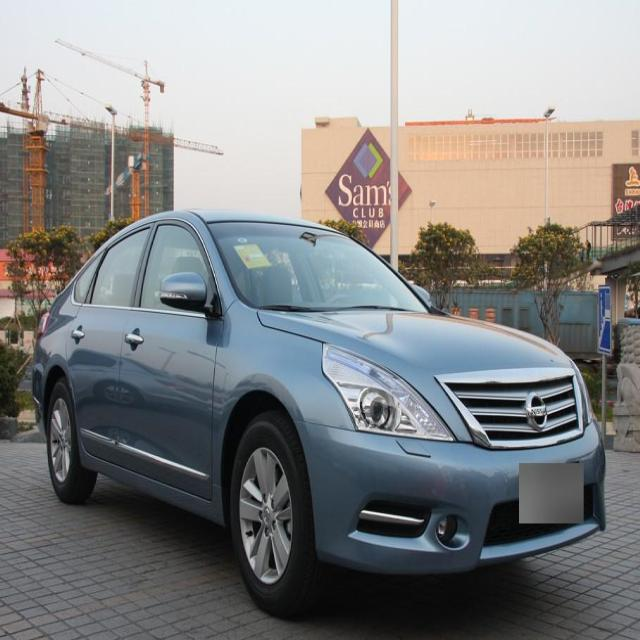back_right_side_light: (31, 300, 63, 352)
door: (74, 224, 152, 458)
front_bumper: (292, 405, 608, 574)
front_glass: (202, 206, 436, 321)
front_right_side_door: (110, 193, 239, 522)
front_right_side_light: (320, 339, 457, 444)
front_right_side_mirror: (158, 268, 220, 323)
wheel: (220, 406, 320, 635), (43, 368, 99, 505)
